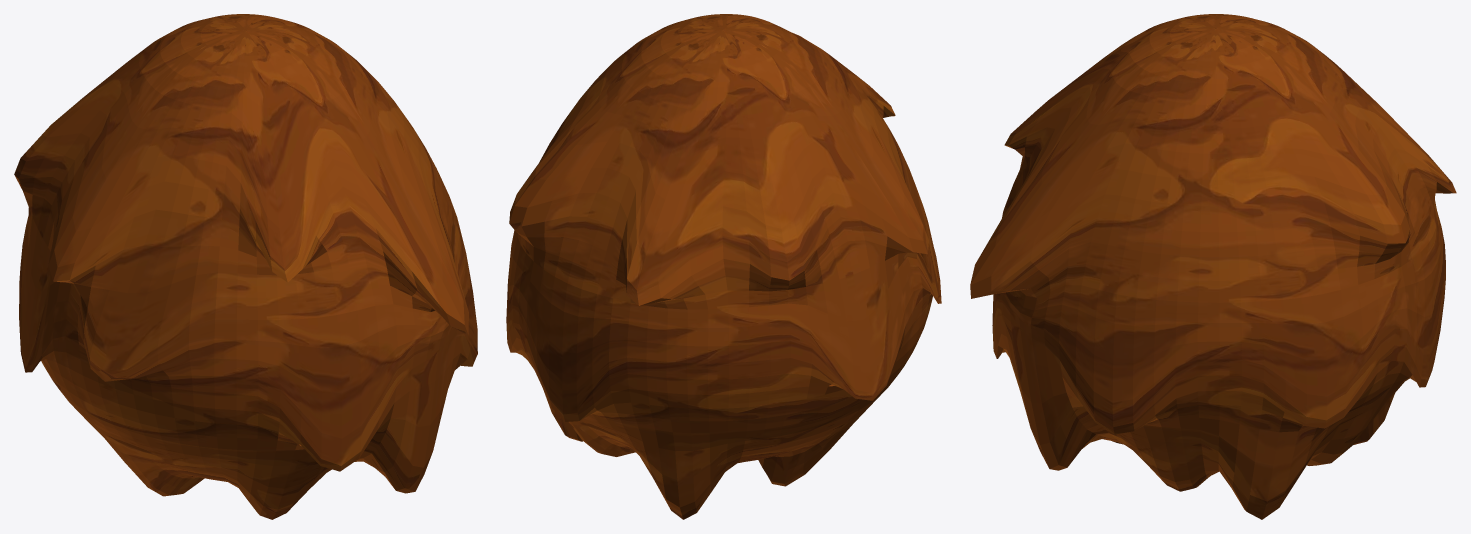
The model's file is bombabarro.glb.
3 views of the same model, side by side, from view 1: azimuth 30°, elevation 25°; view 2: azimuth 150°, elevation 25°; view 3: azimuth 270°, elevation 25° (orthographic). The views are drawn at different scales.
Visible parts, largest first — view 1: Sphere; view 2: Sphere; view 3: Sphere.
Part boxes in pixels (box(x1,y1,x2,y2)): Sphere: box(14, 14, 477, 519); Sphere: box(506, 14, 941, 519); Sphere: box(970, 14, 1456, 519).
Size of the model in its own units: 1.9 by 2.1 by 2.11.
Materials: 1 (1 with a texture image).
